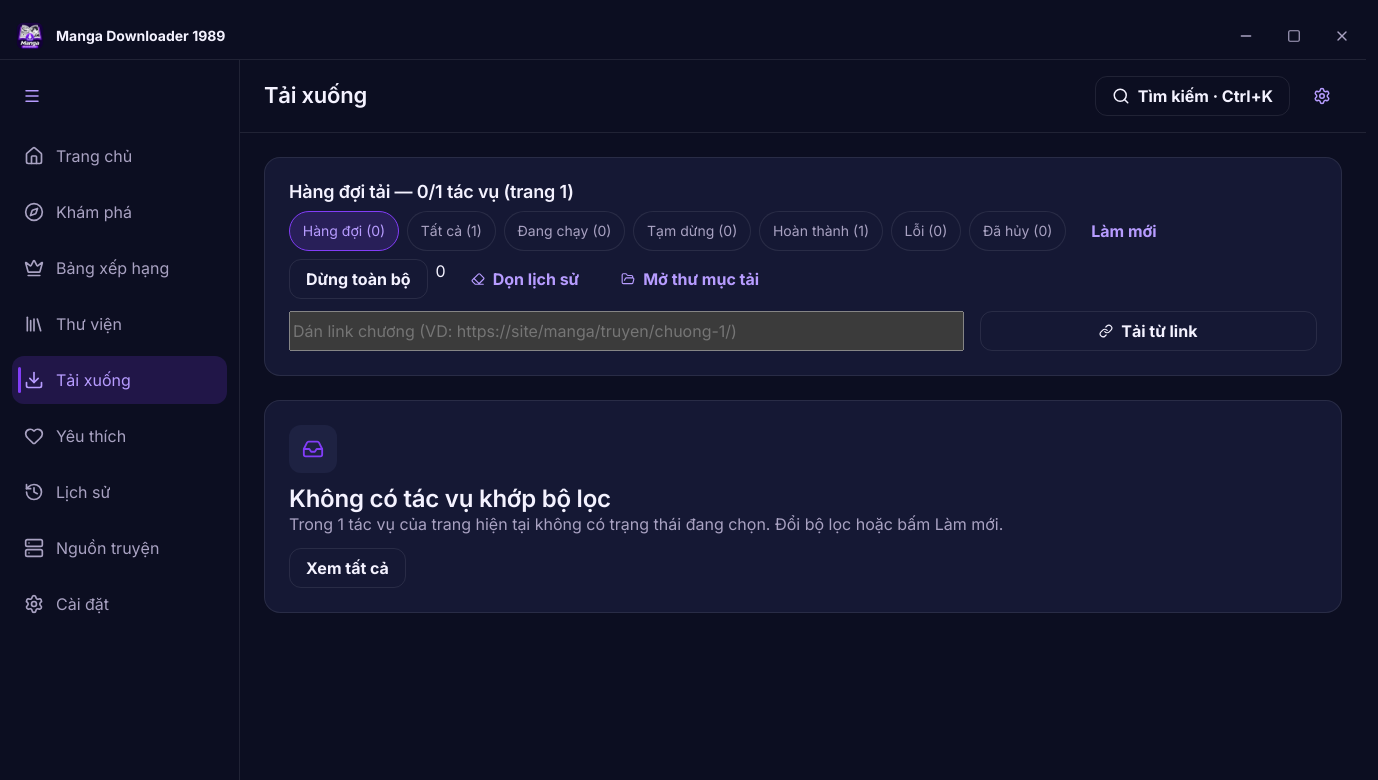
Test case: Hàng đợi: nói rõ lần thử lại và bước tiếp theo › a finished task never shows a countdown
// Completed rows sit behind their own chip — the queue filter hides them.
Click the button "Hoàn thành (1)". click: (821, 231)
box: x1=759 y1=211 x2=883 y2=251
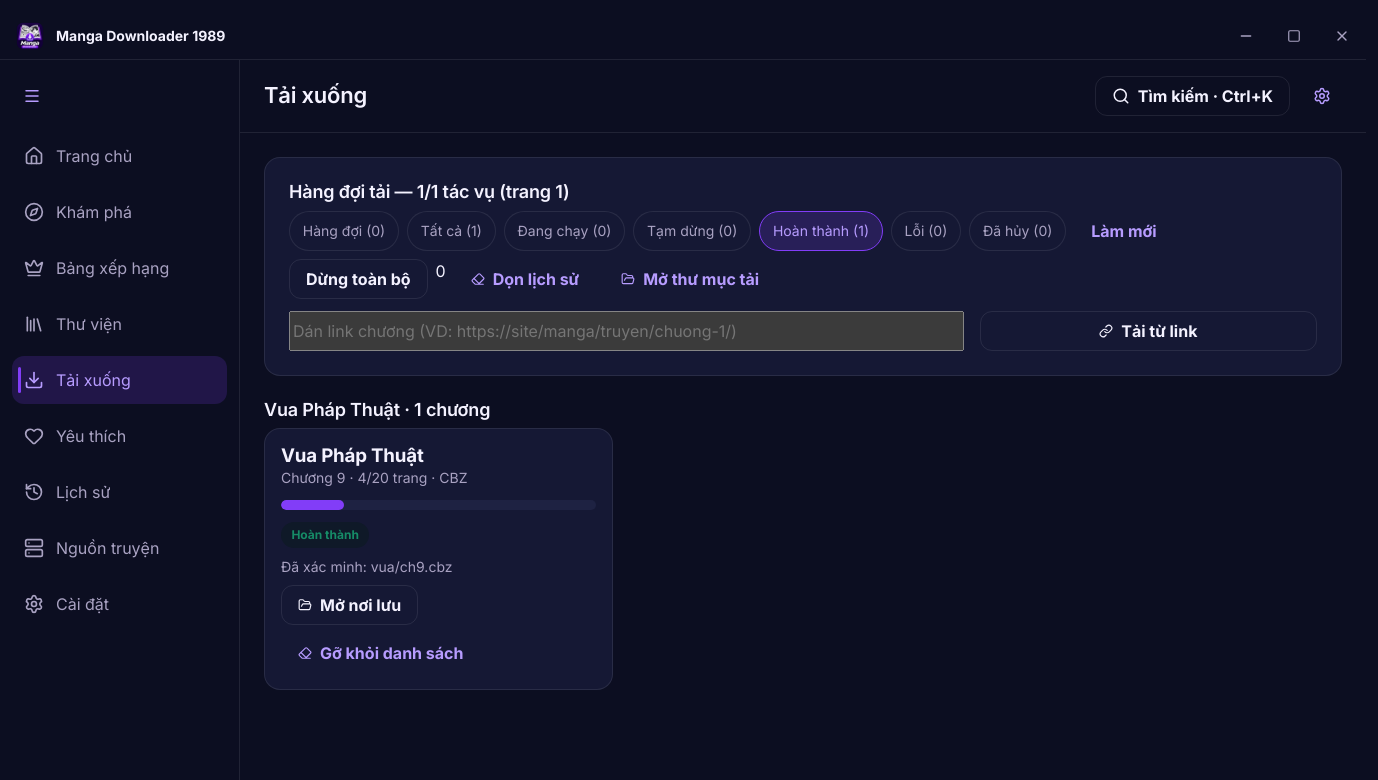
Expected: the text "Chương 9 · 4/20 trang · CBZ" is shown, x1=281 y1=469 x2=468 y2=486
